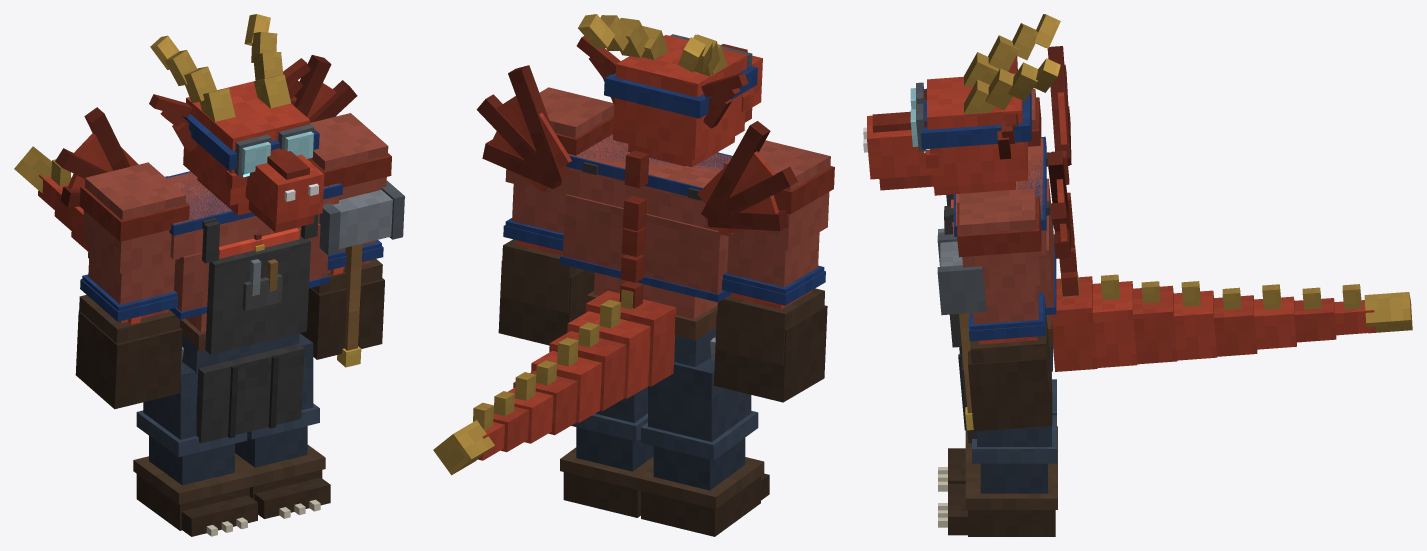
File: dragonoid_forgeron.glb
The picture shows the model from 3 angles, left to right: view 1: azimuth 30°, elevation 25°; view 2: azimuth 150°, elevation 25°; view 3: azimuth 270°, elevation 25°; orthographic projection. The views are drawn at different scales.
Parts seen in each view (by area): view 1: Torso, ArmR, Head, LegR, ArmL, LegL, HandL, Root; view 2: Torso, ArmR, Head, LegR, ArmL, LegL; view 3: Torso, Head, ArmL, LegL, HandL, LegR.
Part boxes in pixels (x1=…): Torso: x1=14, y1=55, x2=357, y2=443; ArmR: x1=75, y1=162, x2=189, y2=409; Head: x1=149, y1=14, x2=324, y2=232; LegR: x1=133, y1=362, x2=257, y2=536; ArmL: x1=300, y1=113, x2=391, y2=359; LegL: x1=235, y1=333, x2=330, y2=518; HandL: x1=319, y1=180, x2=404, y2=367; Root: x1=206, y1=499, x2=320, y2=536; Torso: x1=433, y1=65, x2=797, y2=475; ArmR: x1=713, y1=140, x2=834, y2=402; Head: x1=576, y1=14, x2=762, y2=167; LegR: x1=637, y1=358, x2=769, y2=536; ArmL: x1=498, y1=87, x2=614, y2=345; LegL: x1=560, y1=387, x2=653, y2=517; Torso: x1=938, y1=46, x2=1412, y2=443; Head: x1=863, y1=14, x2=1060, y2=195; ArmL: x1=957, y1=188, x2=1052, y2=431; LegL: x1=948, y1=371, x2=1057, y2=536; HandL: x1=937, y1=234, x2=986, y2=430; LegR: x1=948, y1=379, x2=1057, y2=483.
Size of the model in its own units: 1.38 by 2.05 by 2.2.
44 materials, 44 textured.
